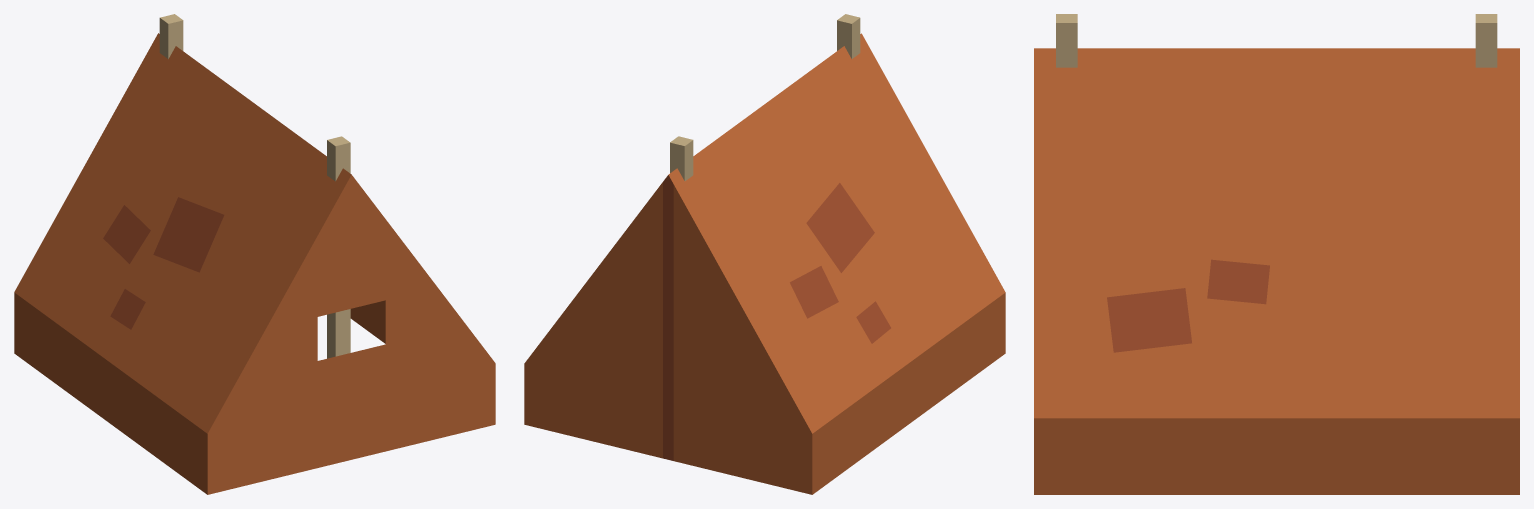
Rendered from tent_smallClosed.glb.
3 renders of one model, left to right at view 1: azimuth 30°, elevation 25°; view 2: azimuth 150°, elevation 25°; view 3: azimuth 270°, elevation 25°, orthographic. The views are drawn at different scales.
Visible parts, largest first — view 1: tent_smallClosed; view 2: tent_smallClosed; view 3: tent_smallClosed.
Boxes of the visible parts, x1,y1,x2,y2 form: tent_smallClosed: [14, 14, 495, 494]; tent_smallClosed: [524, 14, 1005, 494]; tent_smallClosed: [1034, 14, 1519, 494].
Bounding box in the file's own units: 0.5476 × 0.5611 × 0.6364.
